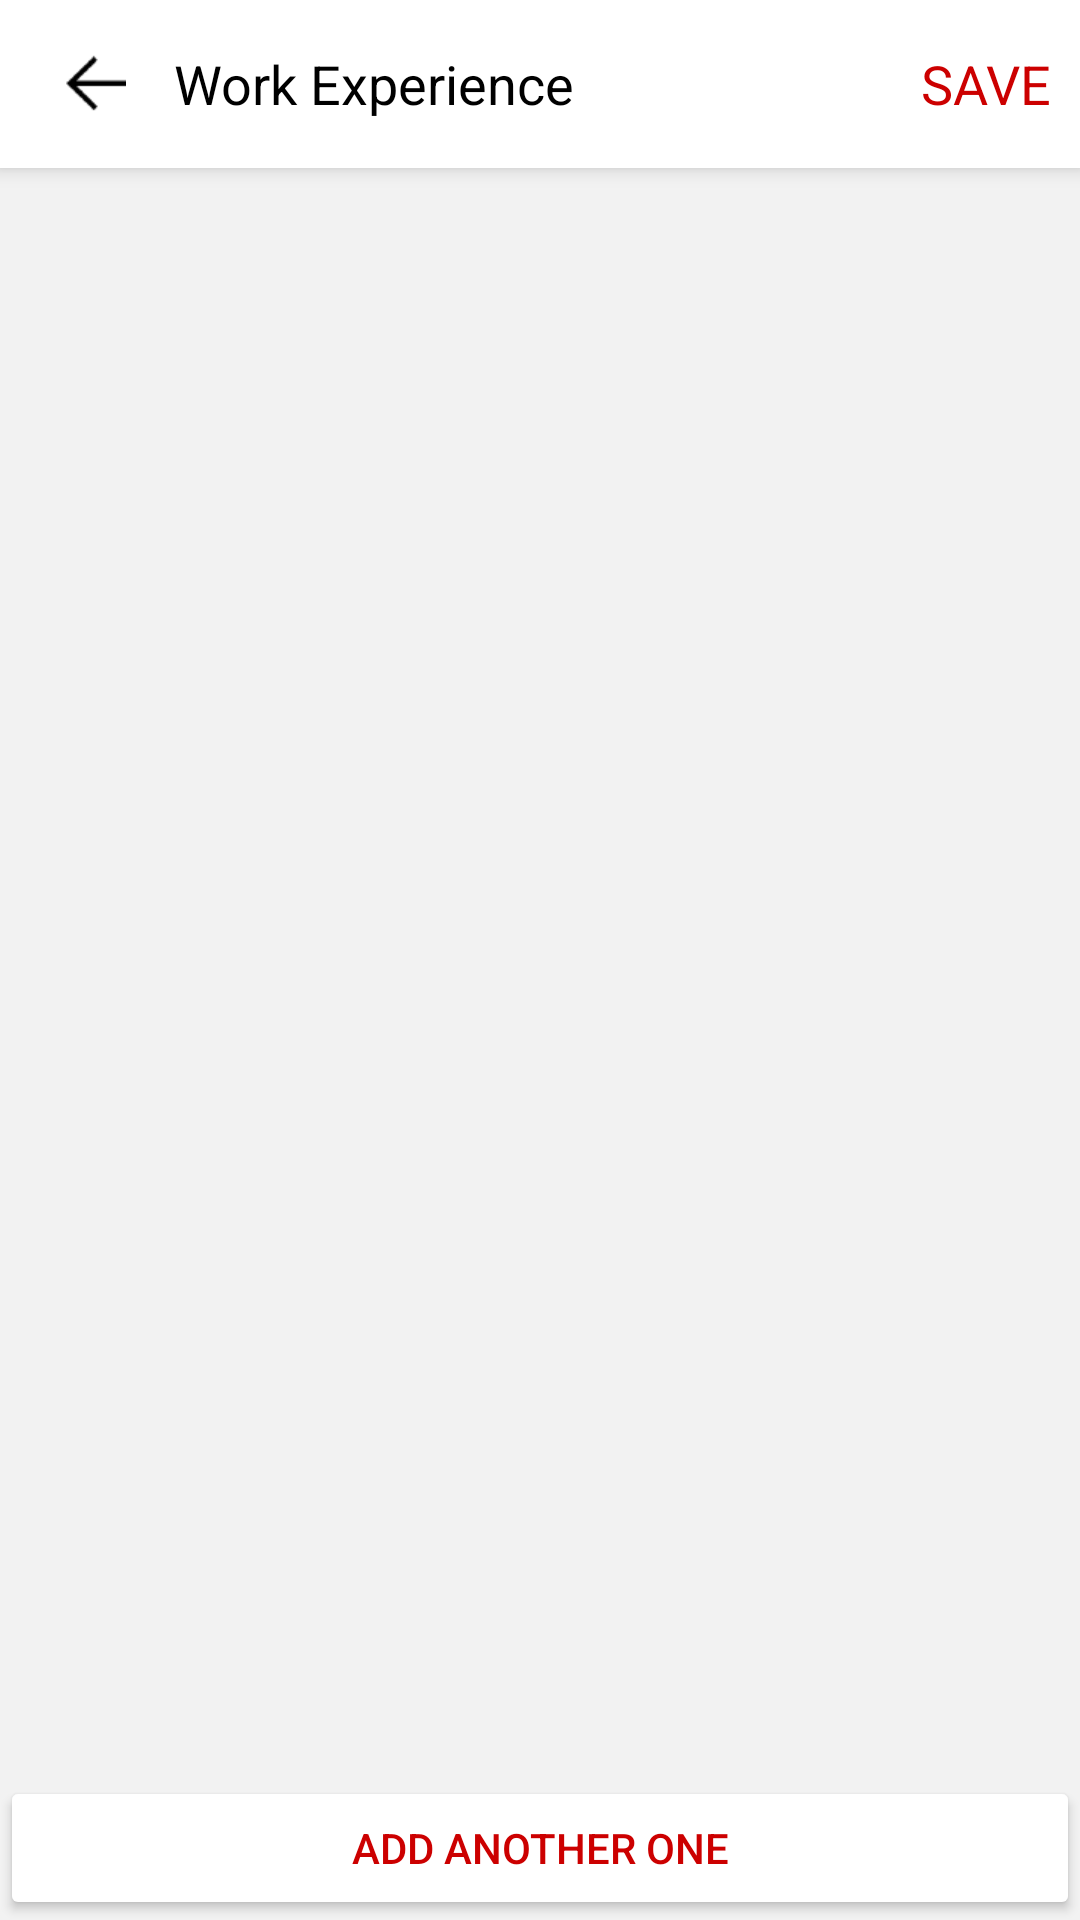

Where to tap for icons on this 1080×1920 app screen, as [x,y]:
back arrow: [96,83]
